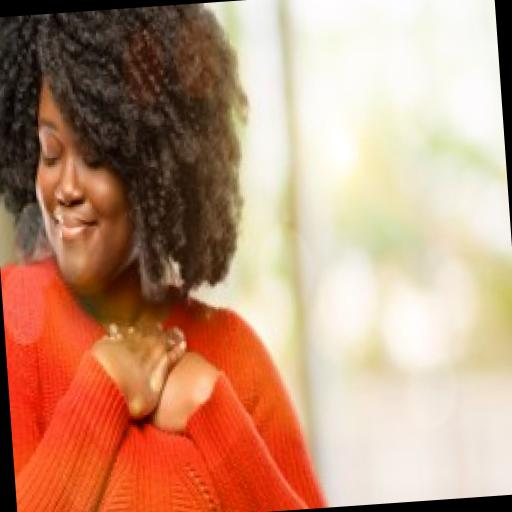human: (0, 0, 335, 512)
